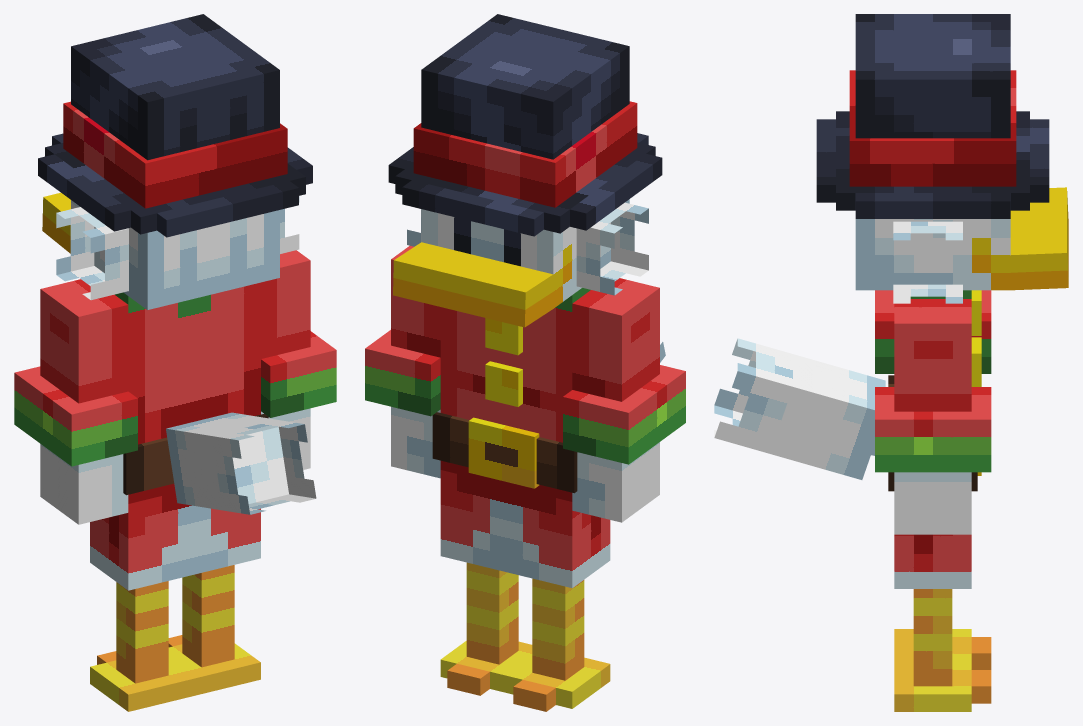
File: Scrooge McDuck C64.gltf
3 views of the same model, side by side, from view 1: azimuth 30°, elevation 25°; view 2: azimuth 150°, elevation 25°; view 3: azimuth 270°, elevation 25° (orthographic).
Visible parts, largest first — view 1: tophat (×7), body (×2), leftLeg (×3), leftArm, jacket (×2), rightLeg (×3), leftSleeve, rightArm, rightSleeve, hat (×2); view 2: tophat (×7), body (×2), leftLeg (×4), leftArm, rightLeg (×4), hat (×2), leftSleeve, jacket (×3), rightArm, rightSleeve; view 3: tophat (×8), jacket (×2), rightArm, rightLeg (×4), rightSleeve, hat (×2), leftSleeve, leftLeg (×2).
Part boxes in pixels (x1,y1,x2,y2): tophat (×7): (38, 14, 305, 309); body (×2): (115, 282, 268, 503); leftLeg (×3): (90, 492, 194, 711); leftArm: (40, 279, 128, 524); jacket (×2): (166, 412, 316, 514); rightLeg (×3): (168, 506, 260, 695); leftSleeve: (14, 366, 137, 466); rightArm: (261, 250, 310, 469); rightSleeve: (261, 331, 336, 417); hat (×2): (42, 192, 70, 253); tophat (×7): (395, 14, 662, 308); body (×2): (432, 288, 590, 501); leftLeg (×4): (506, 486, 610, 711); leftArm: (572, 278, 659, 522); rightLeg (×4): (440, 470, 532, 695); hat (×2): (393, 242, 553, 327); leftSleeve: (563, 365, 685, 464); jacket (×3): (468, 318, 539, 488); rightArm: (391, 246, 440, 478); rightSleeve: (365, 330, 440, 416); tophat (×8): (816, 14, 1049, 303); jacket (×2): (714, 338, 885, 479); rightArm: (894, 299, 971, 534); rightLeg (×4): (894, 534, 991, 711); rightSleeve: (875, 387, 991, 472); hat (×2): (1010, 187, 1068, 290); leftSleeve: (875, 290, 991, 373); leftLeg (×2): (894, 629, 991, 669).
Bounding box in the file's own units: 1 × 2.25 × 1.14.
1 material, 1 textured.
